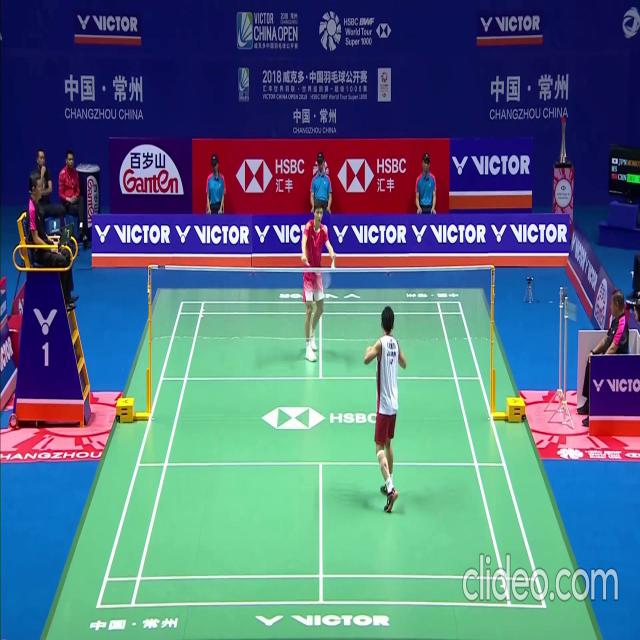Shuttlecock: (330, 261, 335, 268)
